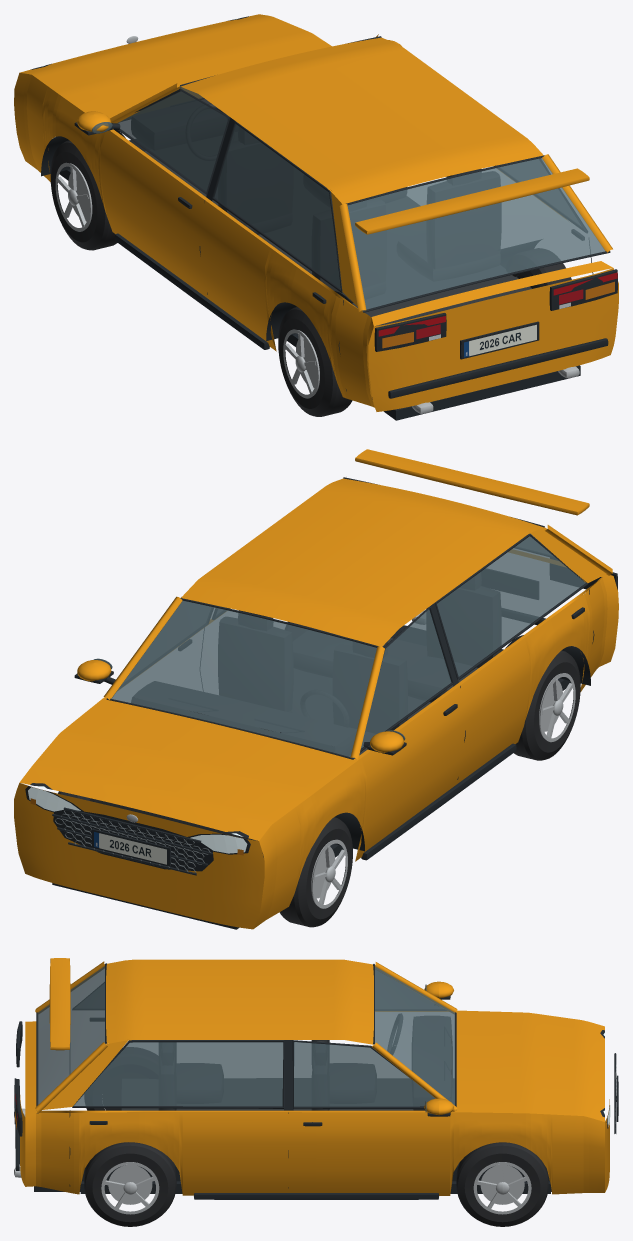
The model's file is Entrega_12_LOD0.glb.
3 views of the same model, one above another, from view 1: azimuth 30°, elevation 25°; view 2: azimuth 150°, elevation 25°; view 3: azimuth 270°, elevation 25° (orthographic). The views are drawn at different scales.
Visible parts, largest first — view 1: Body, Glass, Interior, Wheel_RL, Wheel_FL, Wheel_RR, Plates, TailLights; view 2: Body, Glass, Interior, Wheel_FL, Wheel_RL, Headlights, Plates; view 3: Body, Glass, Interior, Wheel_RR, Wheel_FR, Wheel_RL.
Boxes of the visible parts, bbox=[...] form: Body: bbox=[14, 14, 618, 420]; Glass: bbox=[92, 86, 605, 311]; Interior: bbox=[131, 99, 532, 326]; Wheel_RL: bbox=[278, 307, 352, 416]; Wheel_FL: bbox=[50, 140, 117, 250]; Wheel_RR: bbox=[505, 248, 571, 288]; Plates: bbox=[464, 324, 536, 357]; TailLights: bbox=[378, 272, 617, 336]; Body: bbox=[14, 449, 618, 929]; Glass: bbox=[93, 533, 585, 758]; Interior: bbox=[98, 572, 501, 840]; Wheel_FL: bbox=[279, 817, 352, 927]; Wheel_RL: bbox=[514, 650, 580, 760]; Headlights: bbox=[28, 786, 247, 853]; Plates: bbox=[94, 832, 166, 864]; Body: bbox=[14, 958, 618, 1199]; Glass: bbox=[37, 966, 454, 1112]; Interior: bbox=[120, 1014, 459, 1166]; Wheel_RR: bbox=[84, 1142, 176, 1226]; Wheel_FR: bbox=[456, 1142, 548, 1226]; Wheel_RL: bbox=[85, 1047, 158, 1110].
Size of the model in its own units: 2.2 by 1.46 by 4.39.
14 materials, 1 textured.
